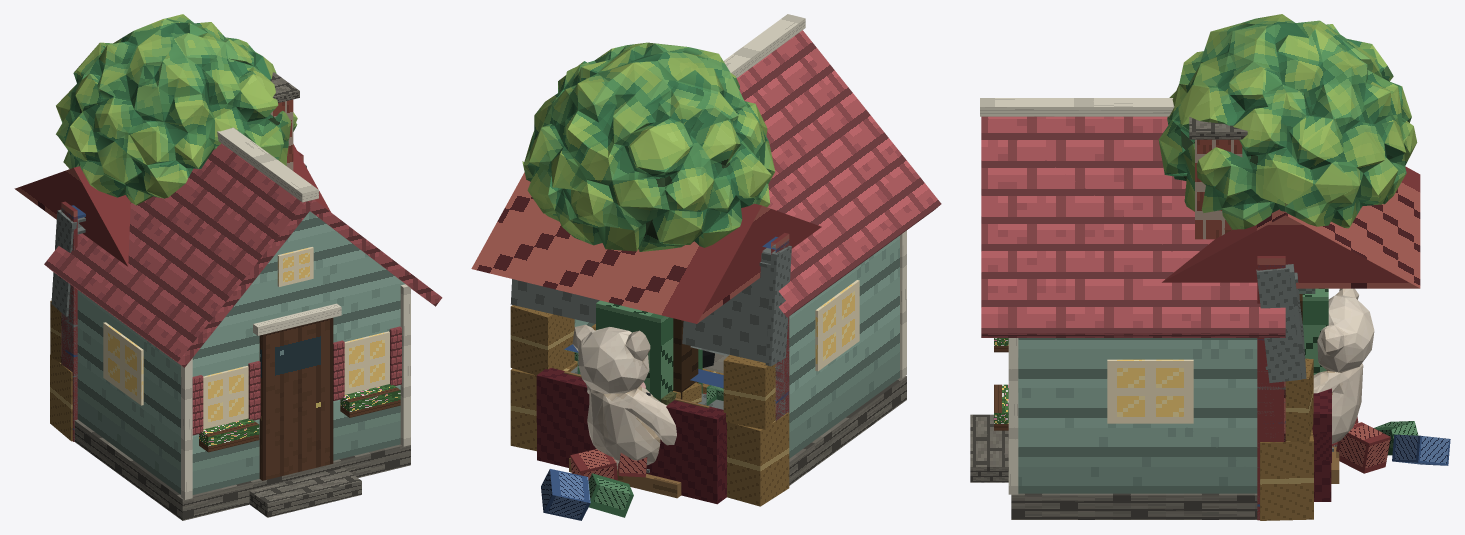
File: kit.glb
The picture shows the model from 3 angles, left to right: view 1: azimuth 30°, elevation 25°; view 2: azimuth 150°, elevation 25°; view 3: azimuth 270°, elevation 25°; orthographic projection. The views are drawn at different scales.
Visible parts, largest first — view 1: kit_cottage, kit_tree, kit_cottage_glow, kit_roof, kit_gap, kit_rack_unit, kit_shelf_unit; view 2: kit_cottage, kit_tree, kit_gap, kit_roof, kit_sofa, kit_bear, kit_debris, kit_arcade, kit_cottage_glow, kit_rack_unit, kit_shelf_unit, kit_bookcase (+1 smaller); view 3: kit_cottage, kit_tree, kit_roof, kit_gap, kit_bear, kit_cottage_glow, kit_debris, kit_rack_unit, kit_sofa, kit_arcade.
Boxes of the visible parts, <box> form: kit_cottage: <box>44,72,442,520</box>; kit_tree: <box>56,14,297,205</box>; kit_cottage_glow: <box>103,247,389,429</box>; kit_roof: <box>14,144,330,266</box>; kit_gap: <box>50,164,306,441</box>; kit_rack_unit: <box>61,151,303,441</box>; kit_shelf_unit: <box>61,207,85,441</box>; kit_cottage: <box>574,14,941,485</box>; kit_tree: <box>522,42,775,251</box>; kit_gap: <box>510,245,791,506</box>; kit_roof: <box>471,172,821,323</box>; kit_sofa: <box>536,368,726,504</box>; kit_bear: <box>572,324,706,468</box>; kit_debris: <box>541,368,723,520</box>; kit_arcade: <box>596,300,714,401</box>; kit_cottage_glow: <box>815,280,859,371</box>; kit_rack_unit: <box>564,233,789,420</box>; kit_shelf_unit: <box>565,239,789,420</box>; kit_bookcase: <box>673,318,698,399</box>; kit_cottage: <box>970,98,1285,519</box>; kit_tree: <box>1158,14,1417,229</box>; kit_roof: <box>1162,166,1420,288</box>; kit_gap: <box>1256,264,1313,520</box>; kit_bear: <box>1313,288,1374,443</box>; kit_cottage_glow: <box>1107,359,1193,423</box>; kit_debris: <box>1332,416,1450,473</box>; kit_rack_unit: <box>1257,256,1285,520</box>; kit_sofa: <box>1312,388,1331,501</box>; kit_arcade: <box>1302,288,1328,374</box>.
Bounding box in the file's own units: 3.22 × 4.47 × 4.45.
Materials: 8 (8 with a texture image).
